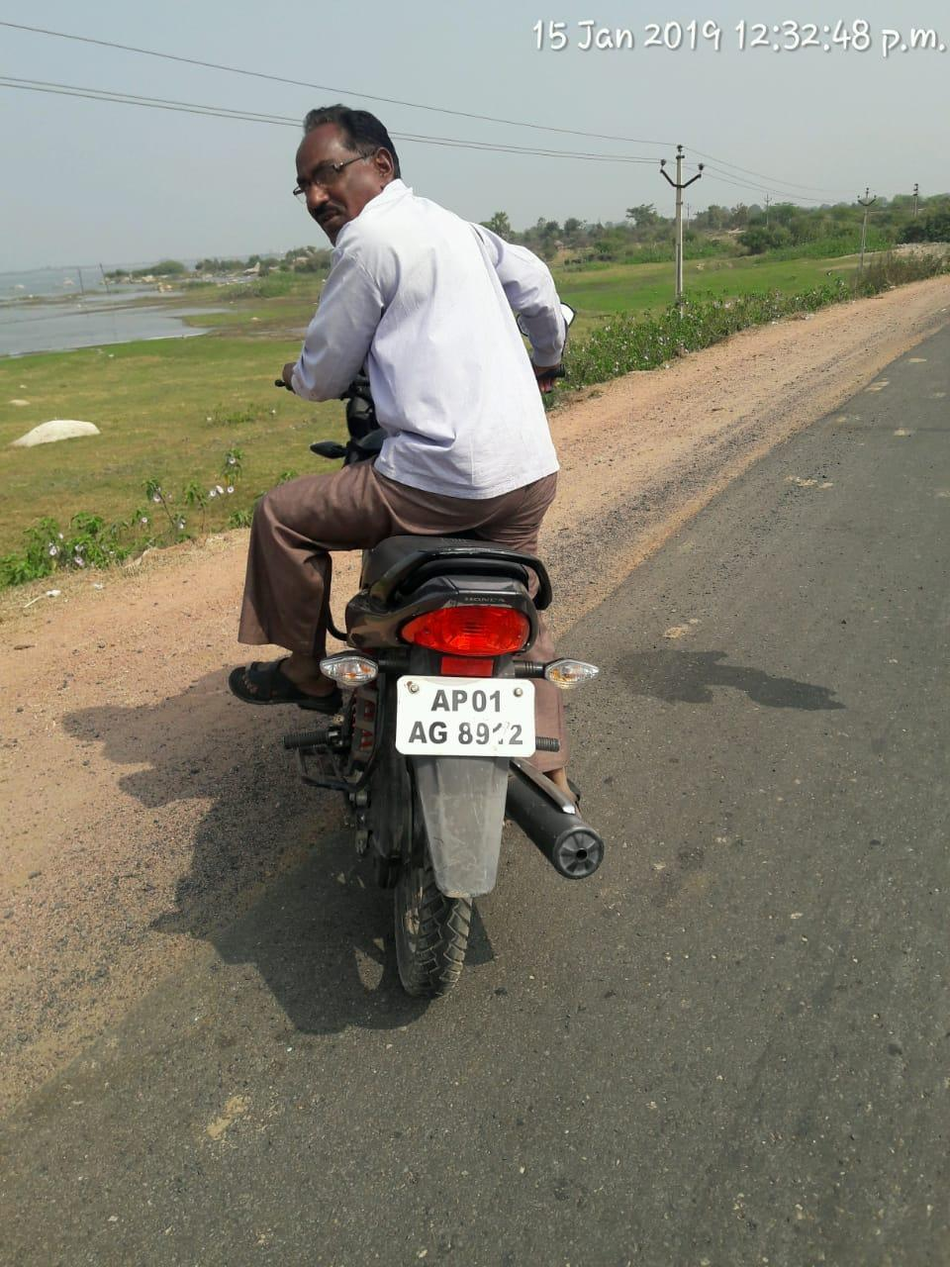plate: (399, 669, 544, 772)
